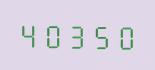five: (87, 20, 109, 50)
four: (18, 18, 40, 49)
three: (64, 19, 86, 50)
zero: (41, 19, 63, 49), (110, 20, 132, 50)
